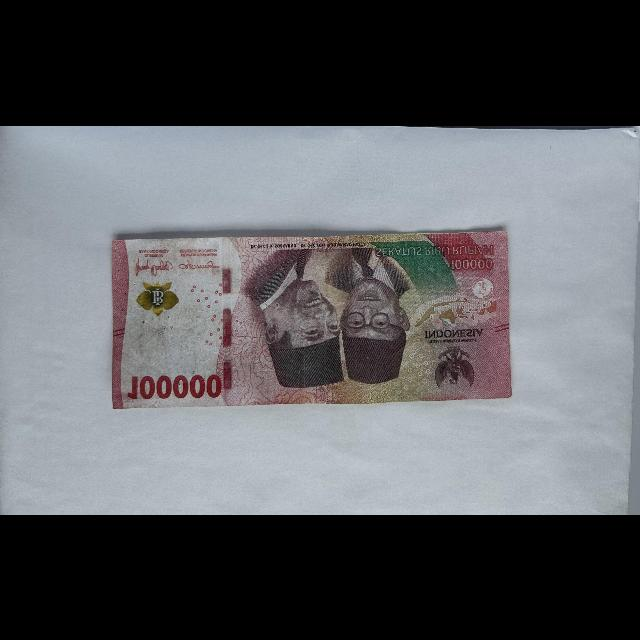Palsu-100k: (111, 229, 514, 409)
Tinta-Palsu-100k: (137, 280, 180, 316)
